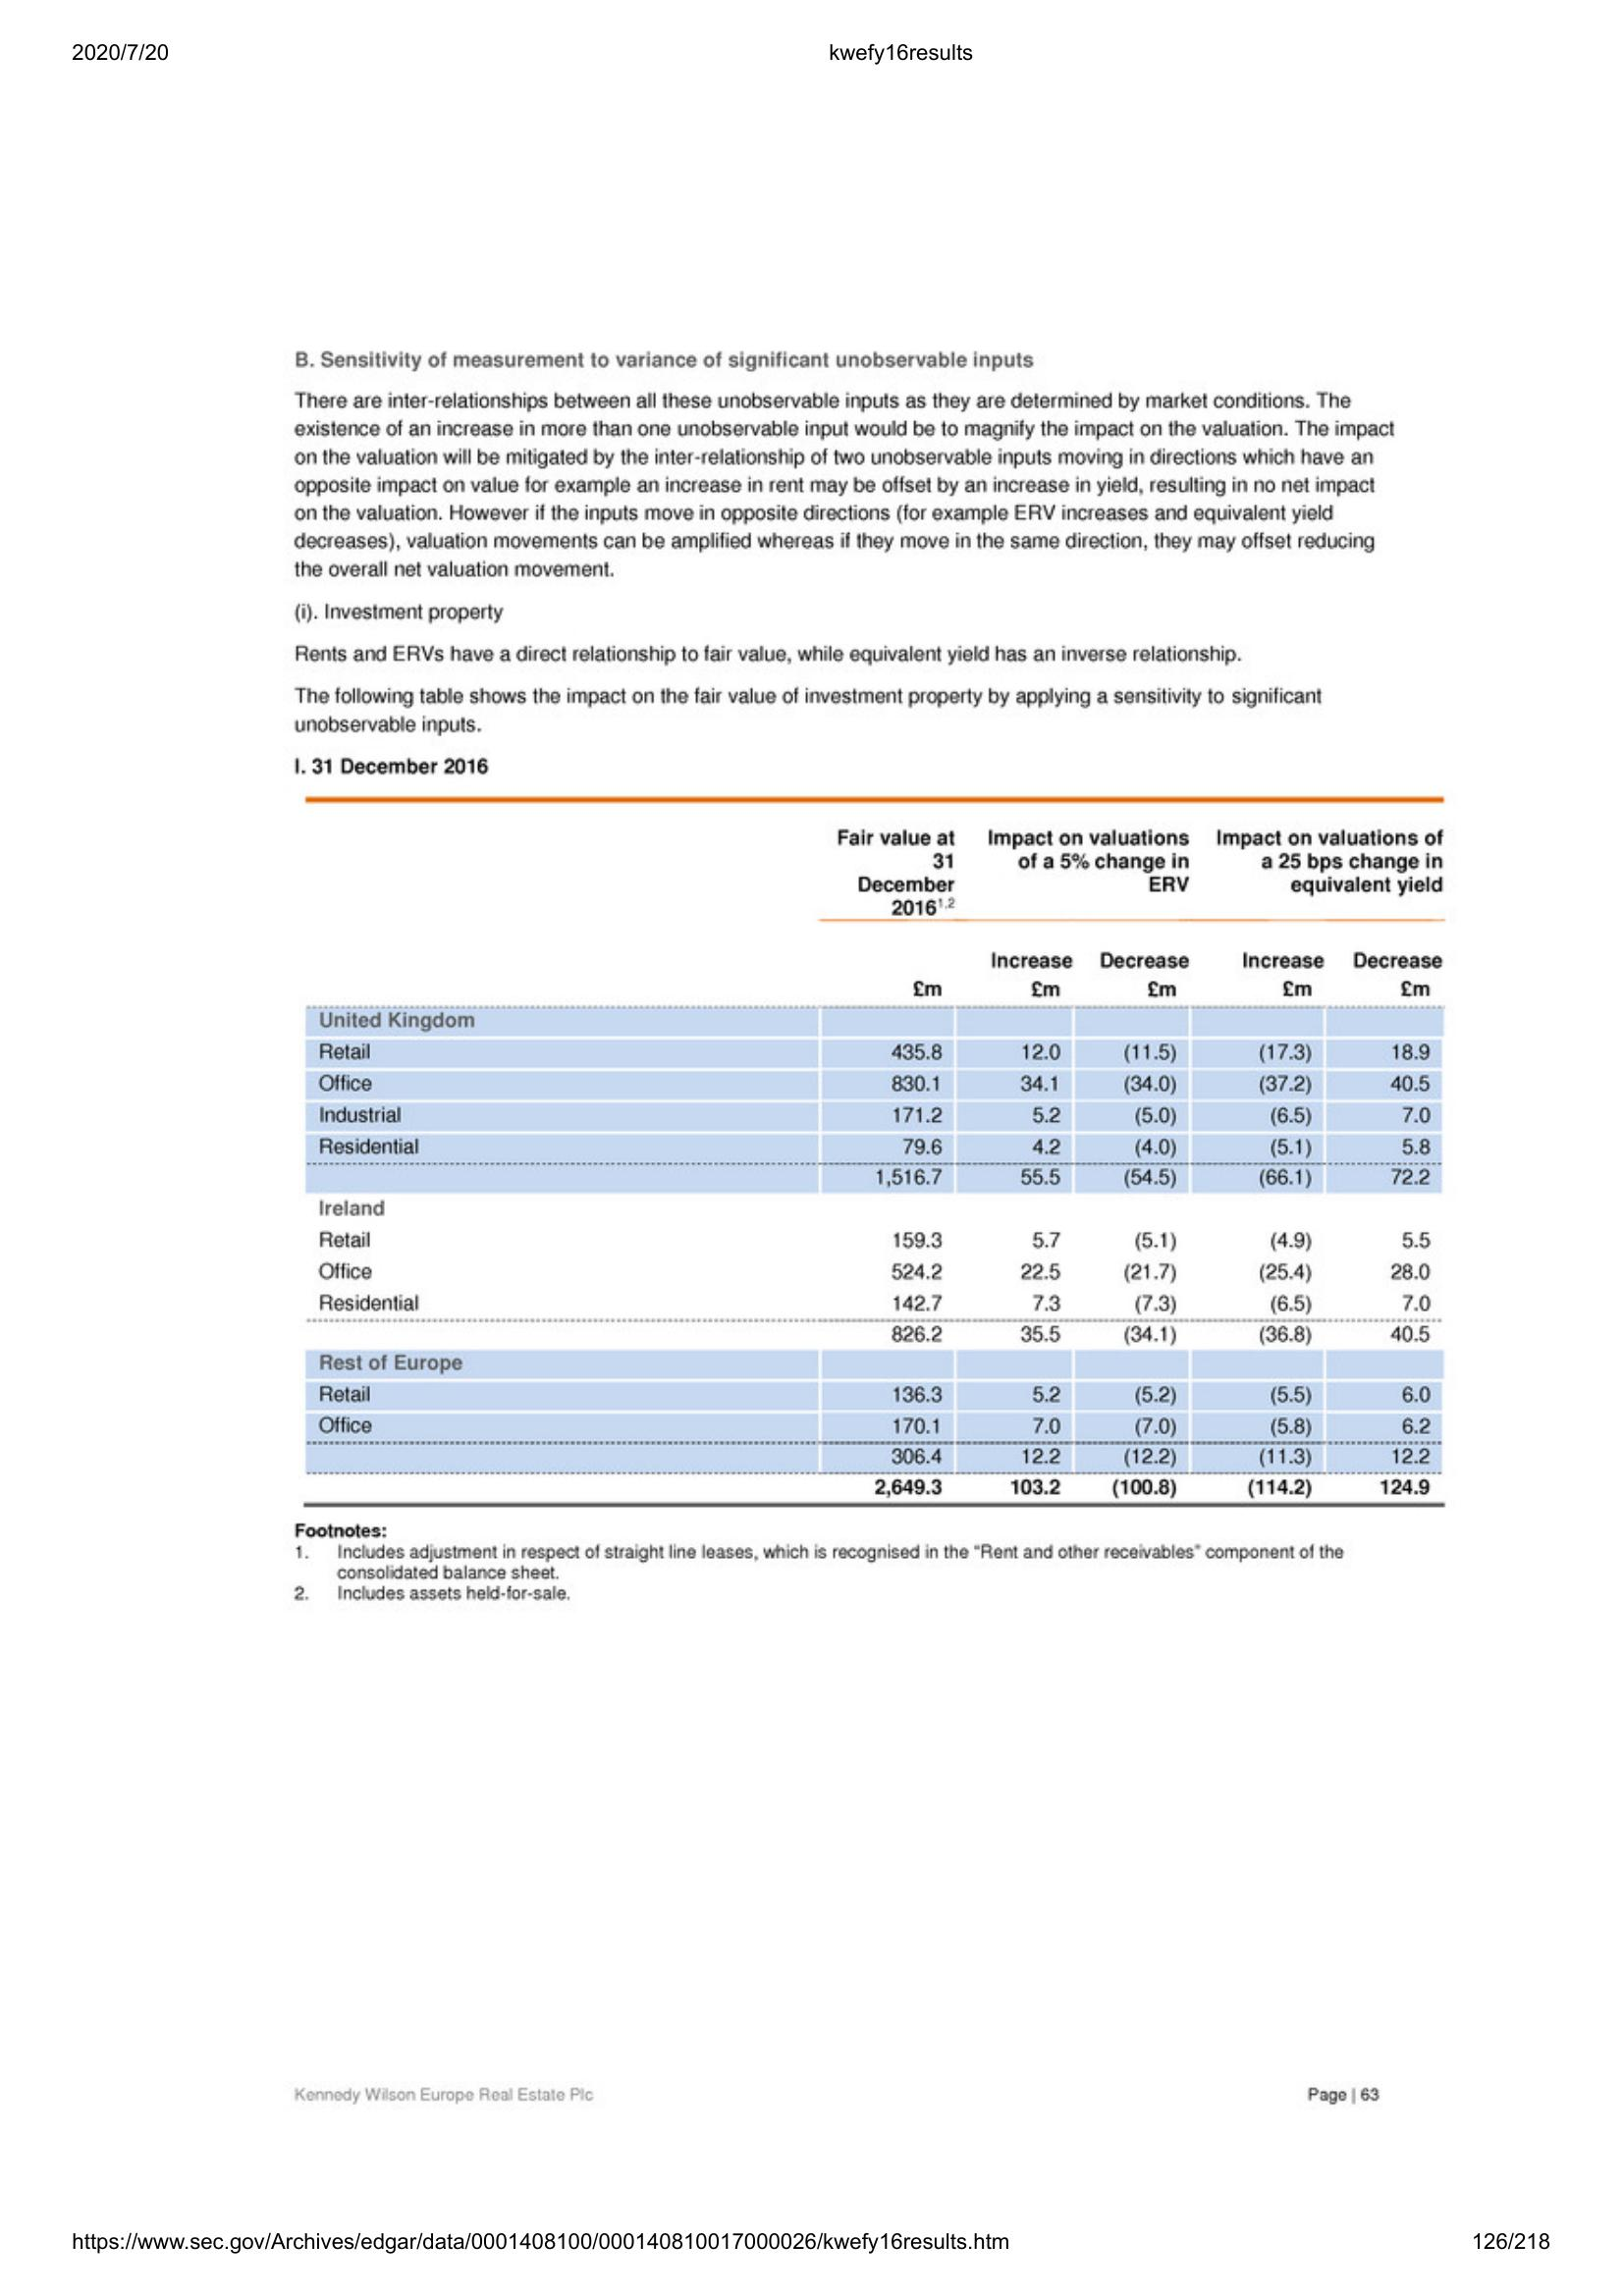table: (295, 792, 1461, 1515)
